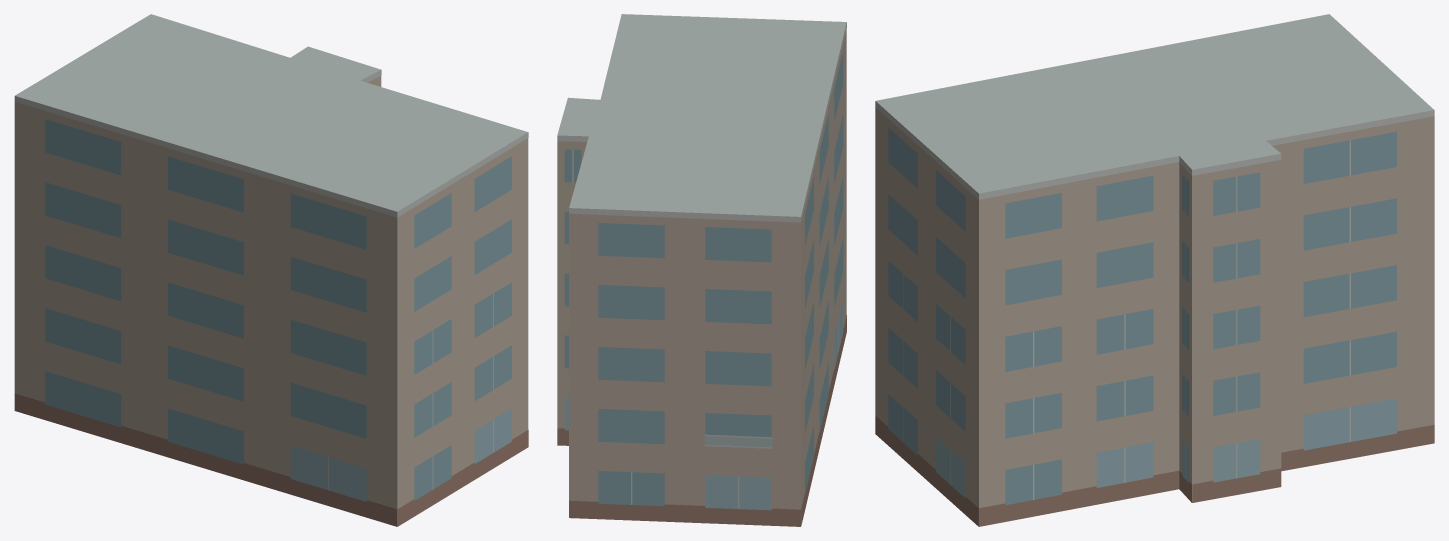
The model's file is survey-upis-32683273.glb.
3 renders of one model, left to right at view 1: azimuth 30°, elevation 25°; view 2: azimuth 150°, elevation 25°; view 3: azimuth 270°, elevation 25°, orthographic. The views are drawn at different scales.
Visible parts, largest first — view 1: survey-upis-32683273.tmp; view 2: survey-upis-32683273.tmp; view 3: survey-upis-32683273.tmp.
Boxes of the visible parts, left/top/right/bottom form: survey-upis-32683273.tmp: left=14, top=14, right=528, bottom=526; survey-upis-32683273.tmp: left=557, top=14, right=846, bottom=526; survey-upis-32683273.tmp: left=875, top=14, right=1434, bottom=526.
Bounding box in the file's own units: 15.39 × 13.3 × 20.24.
